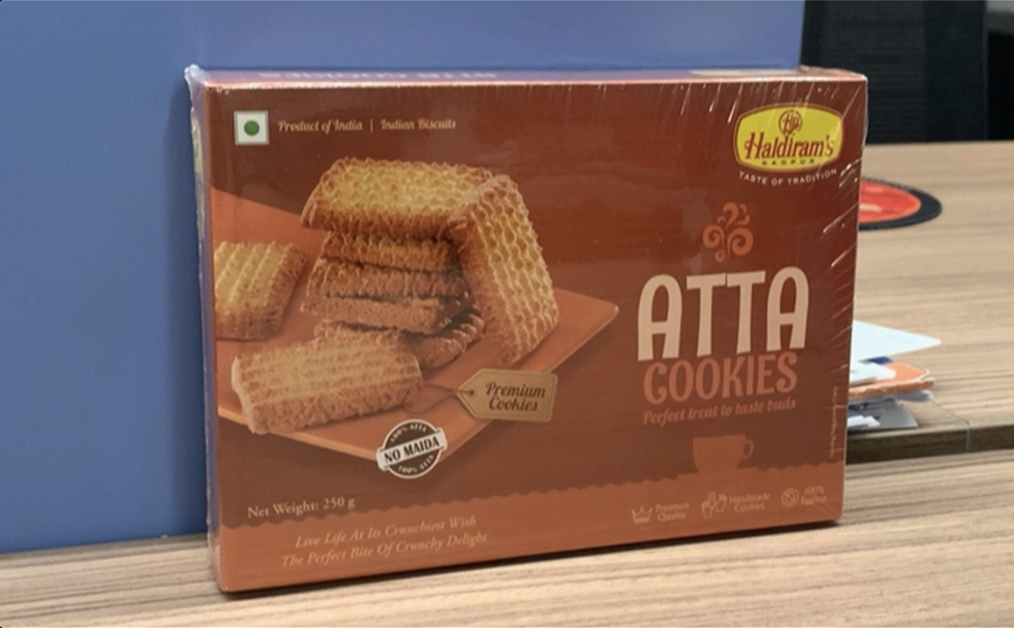cookies_200g-299g: (236, 105, 831, 510)
